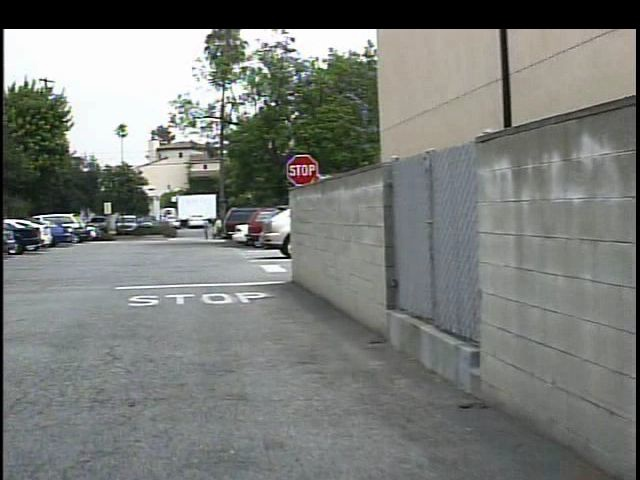person: (192, 216, 206, 242), (204, 217, 217, 242)
